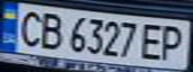2: (103, 17, 124, 57)
3: (84, 16, 106, 56)
6: (63, 14, 87, 54)
7: (118, 19, 142, 58)
B: (36, 10, 66, 51)
C: (12, 7, 45, 48)
E: (136, 20, 169, 61)
P: (157, 23, 190, 62)
